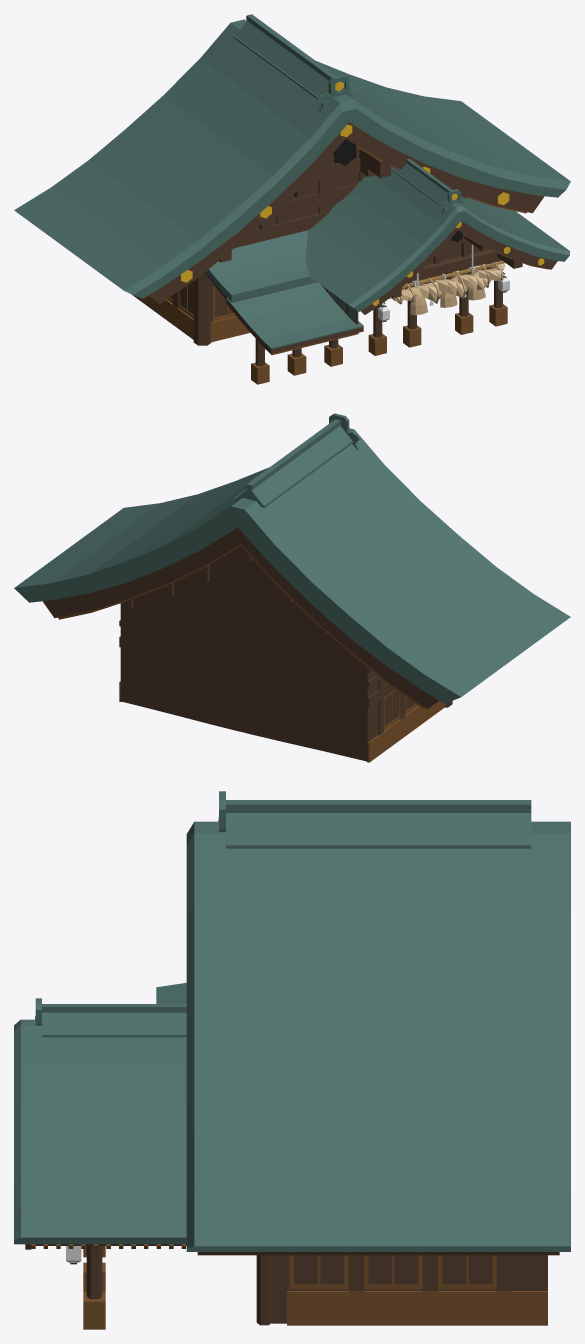
File: Izumo_Taisha.fbx
The picture shows the model from 3 angles, top to bottom: view 1: azimuth 30°, elevation 25°; view 2: azimuth 150°, elevation 25°; view 3: azimuth 270°, elevation 25°; orthographic projection. The views are drawn at different scales.
Visible parts, largest first — view 1: Roof_front.008, Roof_front, Roof_front.010, Cube.004, Cube.002, Roof_front.015, Roof_front.001, Rope_twisted, Roof_front.011, Pillar_front.007, Beam_front.007, Pillar_front.002 (+12 smaller); view 2: Roof_front.008, Roof_front.011, Roof_front.010, Roof_front.015, Cube.011, Roof_front.017, Roof_front.014; view 3: Roof_front.008, Roof_front, Roof_front.015, Cube.011, Roof_front.011, Roof_front.014, Roof_front.005, Cube.012, Beam_front.029, Roof_front.010, Roof_front.004, Pillar_front.010 (+2 smaller).
Boxes of the visible parts, <box> form: Roof_front.008: <box>14,19,570,298</box>; Roof_front: <box>305,170,570,311</box>; Roof_front.010: <box>148,122,544,303</box>; Cube.004: <box>226,282,363,349</box>; Cube.002: <box>205,230,316,302</box>; Roof_front.015: <box>233,21,353,98</box>; Roof_front.001: <box>361,220,557,314</box>; Rope_twisted: <box>390,264,505,302</box>; Roof_front.011: <box>170,147,359,320</box>; Pillar_front.007: <box>193,272,211,345</box>; Beam_front.007: <box>407,249,501,282</box>; Pillar_front.002: <box>251,344,342,384</box>; Roof_front.008: <box>14,428,570,703</box>; Roof_front.011: <box>120,550,415,761</box>; Roof_front.010: <box>43,527,438,708</box>; Roof_front.015: <box>233,425,353,507</box>; Cube.011: <box>119,681,445,762</box>; Roof_front.017: <box>58,543,423,708</box>; Roof_front.014: <box>246,419,340,490</box>; Roof_front.008: <box>186,821,570,1251</box>; Roof_front: <box>14,1019,186,1244</box>; Roof_front.015: <box>226,813,531,848</box>; Cube.011: <box>287,1291,547,1325</box>; Roof_front.011: <box>271,1255,547,1323</box>; Roof_front.014: <box>226,800,531,812</box>; Roof_front.005: <box>42,1012,186,1037</box>; Cube.012: <box>289,1255,496,1289</box>; Beam_front.029: <box>349,1255,511,1291</box>; Roof_front.010: <box>197,1252,559,1255</box>; Roof_front.004: <box>42,1004,186,1012</box>; Pillar_front.010: <box>256,1255,271,1325</box>.
Size of the model in its own units: 1482 by 786 by 931.
